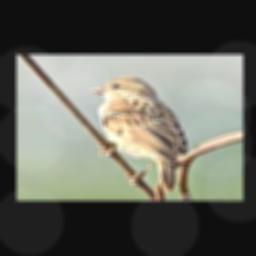Sparrow: (89, 76, 188, 192)
